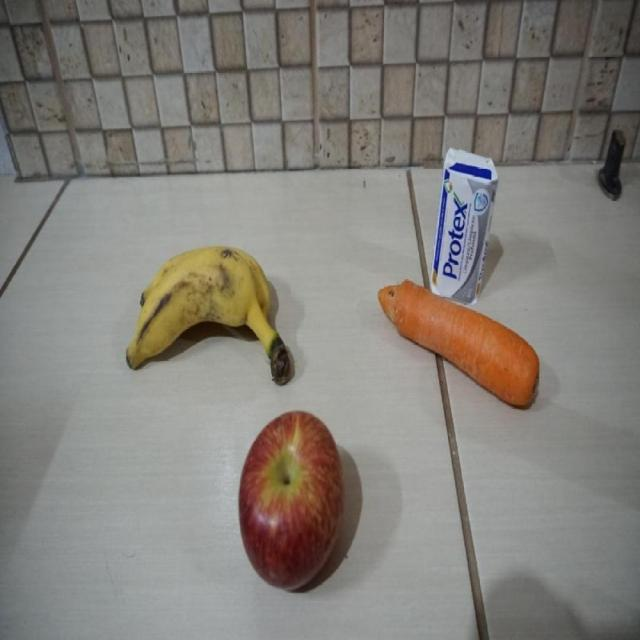Apple: (240, 407, 345, 590)
Banana: (127, 241, 291, 391)
Carrot: (370, 279, 540, 413)
Soap: (430, 142, 498, 273)
